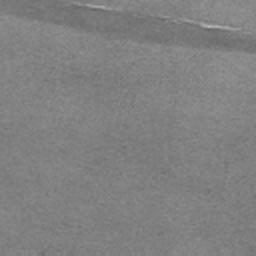Finishing roll printing: (73, 2, 241, 32)
